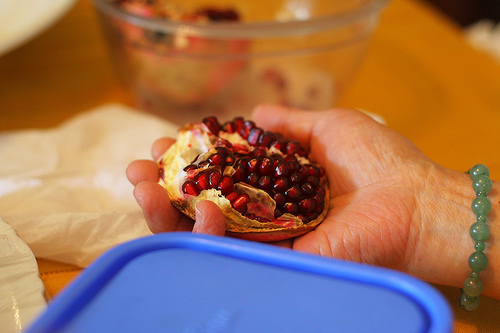pomogranate: (157, 116, 332, 242)
